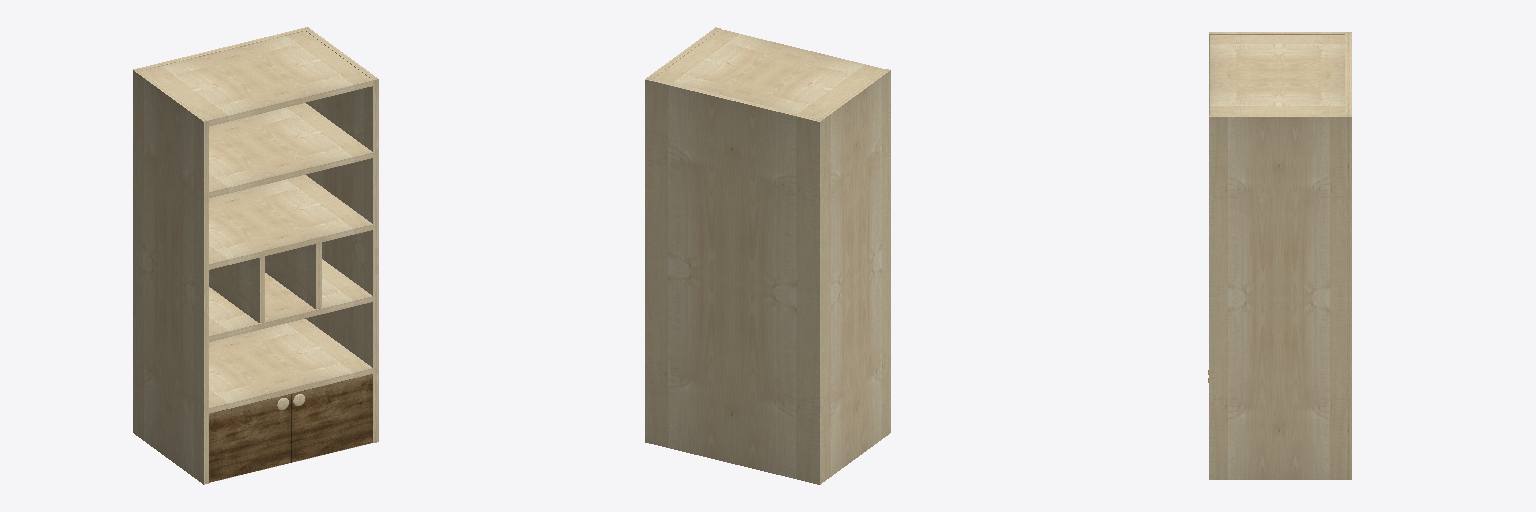
3 views of the same model, side by side, from view 1: azimuth 30°, elevation 25°; view 2: azimuth 150°, elevation 25°; view 3: azimuth 270°, elevation 25° (orthographic).
Visible parts, largest first — view 1: polySurface1; view 2: polySurface1; view 3: polySurface1.
Boxes of the visible parts, x1=… form: polySurface1: x1=133, y1=27, x2=378, y2=484; polySurface1: x1=645, y1=27, x2=890, y2=484; polySurface1: x1=1208, y1=32, x2=1351, y2=479.
Size of the model in its own units: 9.12 by 18.05 by 6.45.
Materials: 3 (2 with a texture image).